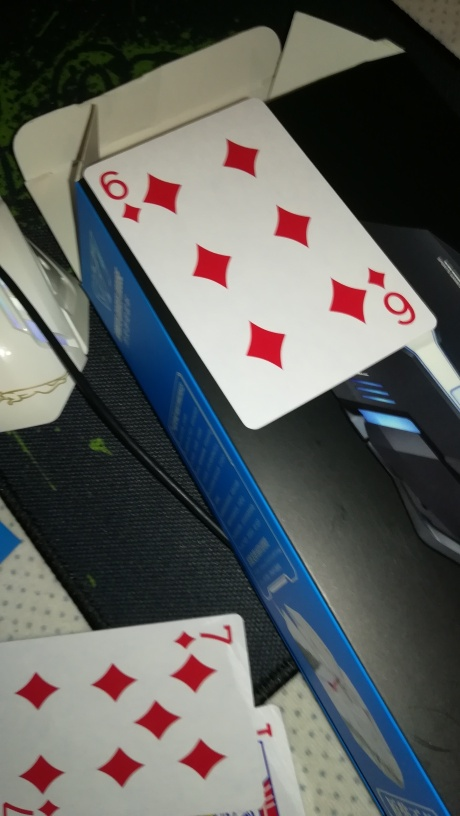fk 6: (77, 93, 438, 437)
